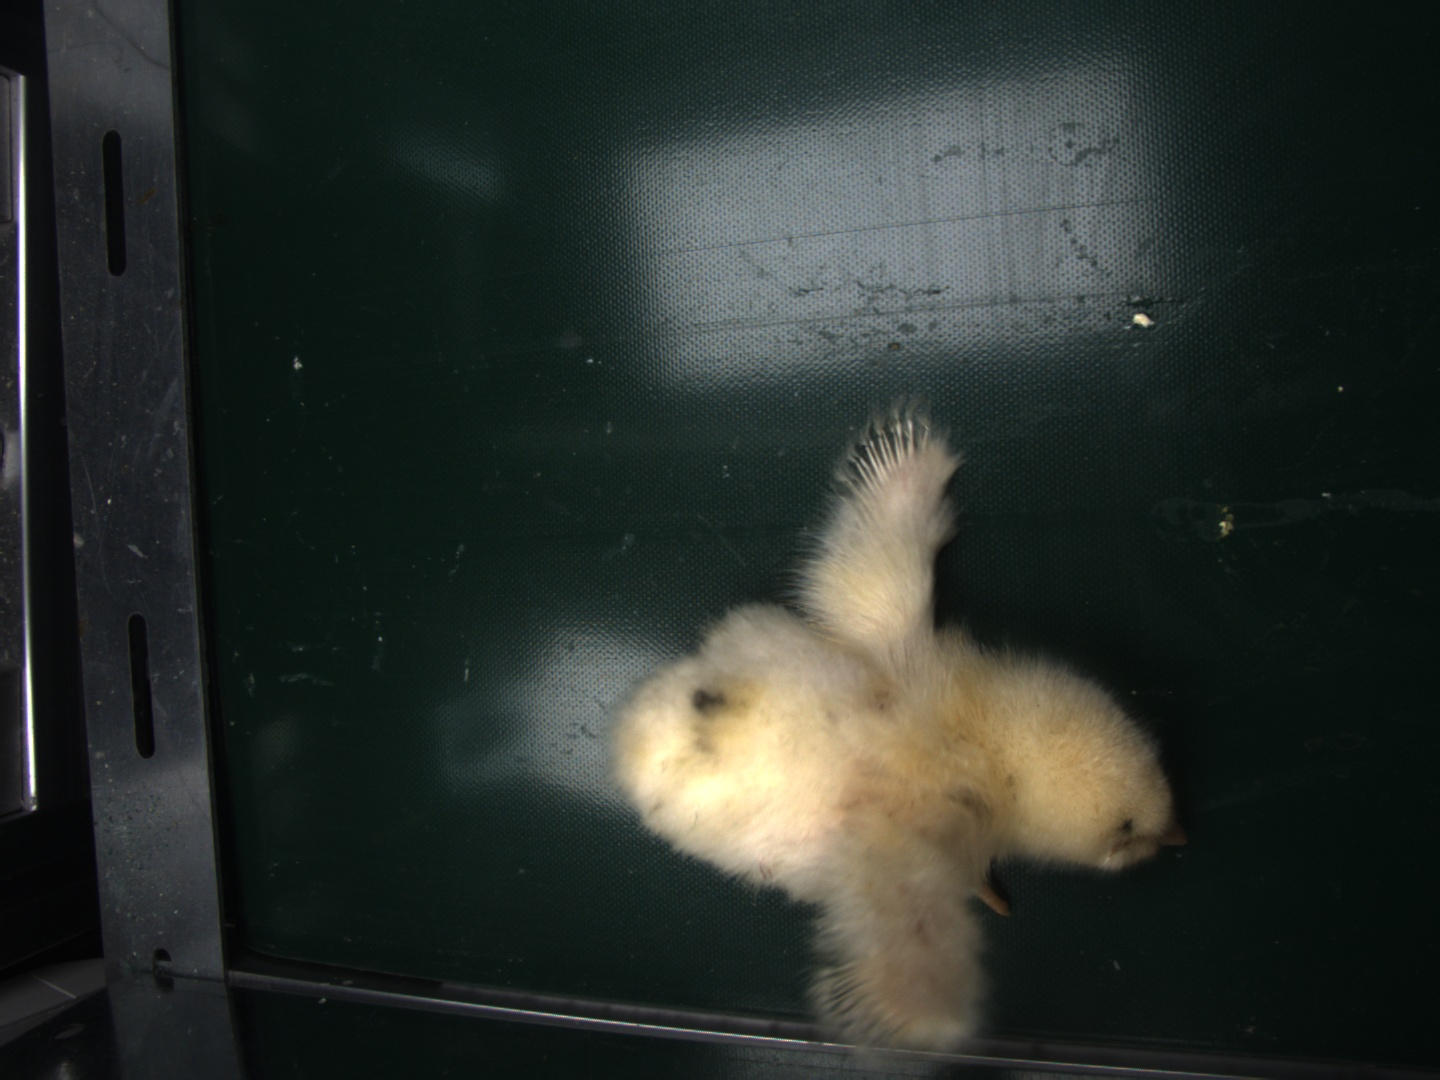male: (841, 414, 929, 492)
